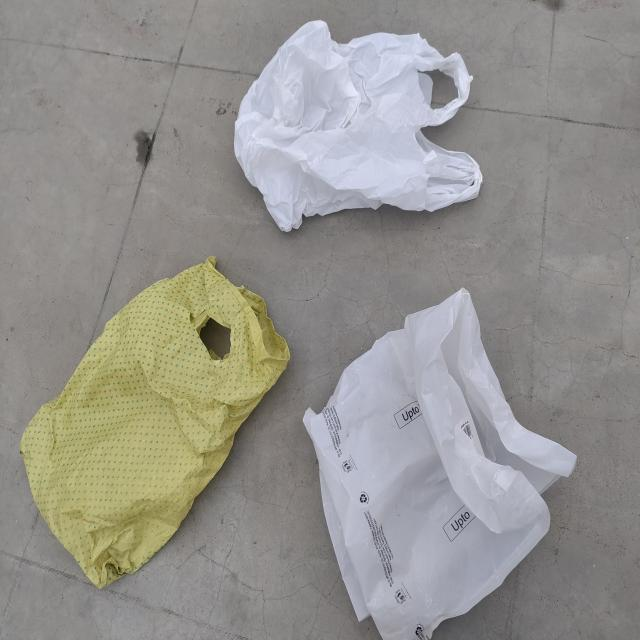dry: (314, 270, 578, 636), (5, 268, 304, 588), (219, 8, 522, 227)
